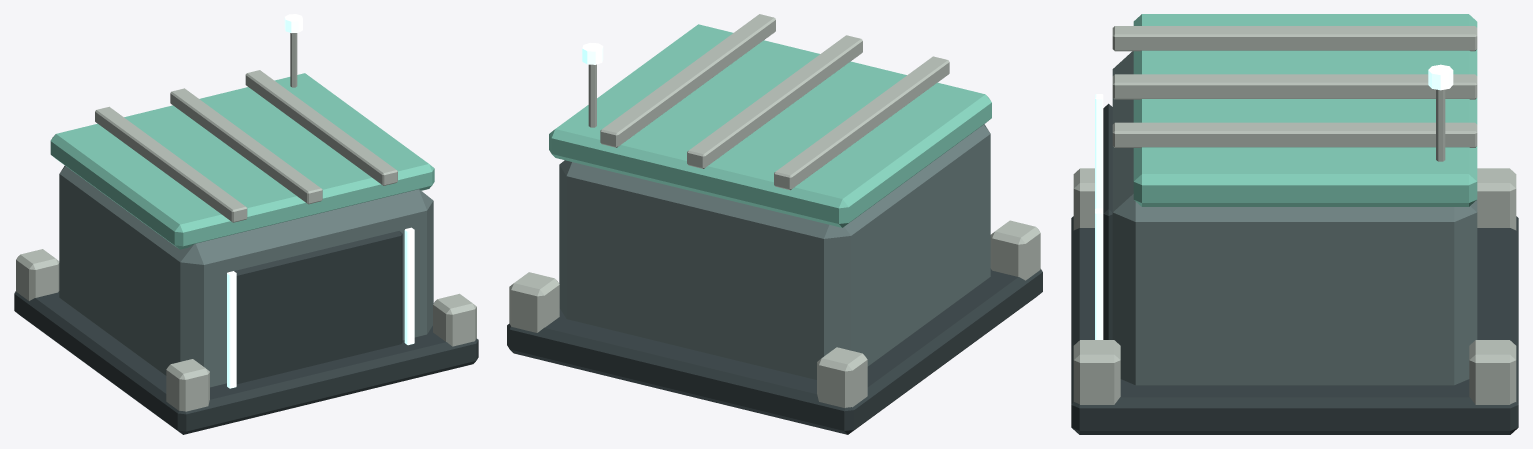
File: barracks.glb
3 views of the same model, side by side, from view 1: azimuth 30°, elevation 25°; view 2: azimuth 150°, elevation 25°; view 3: azimuth 270°, elevation 25° (orthographic). The views are drawn at different scales.
Visible parts, largest first — view 1: Hangar, Roof.001, Bay, Foundation.001, Roof_rib.001, Roof_rib.002, Roof_rib, Corner_armor.004, Corner_armor.006, Corner_armor.005, Bay_light.001, Bay_light; view 2: Hangar, Roof.001, Foundation.001, Roof_rib, Roof_rib.001, Roof_rib.002, Corner_armor.005, Corner_armor.007, Corner_armor.004, Beacon_pole.001; view 3: Hangar, Roof.001, Foundation.001, Roof_rib.002, Roof_rib, Roof_rib.001, Corner_armor.006, Corner_armor.007, Corner_armor.005, Bay, Corner_armor.004, Bay_light.001 (+3 smaller).
Part boxes in pixels (x1,y1,x2,y2): Hangar: [59, 165, 433, 387]; Roof.001: [50, 73, 434, 249]; Bay: [234, 231, 402, 384]; Foundation.001: [14, 291, 478, 434]; Roof_rib.001: [170, 88, 322, 204]; Roof_rib.002: [245, 70, 397, 185]; Roof_rib: [95, 106, 247, 222]; Corner_armor.004: [166, 359, 209, 411]; Corner_armor.006: [433, 293, 476, 346]; Corner_armor.005: [16, 249, 59, 300]; Bay_light.001: [404, 227, 414, 345]; Bay_light: [227, 271, 236, 388]; Hangar: [559, 124, 990, 379]; Roof.001: [549, 24, 991, 227]; Foundation.001: [507, 268, 1042, 434]; Roof_rib: [774, 56, 949, 190]; Roof_rib.001: [687, 35, 862, 168]; Roof_rib.002: [600, 14, 775, 147]; Corner_armor.005: [817, 347, 867, 407]; Corner_armor.007: [509, 272, 559, 332]; Corner_armor.004: [990, 220, 1040, 280]; Beacon_pole.001: [588, 64, 596, 127]; Hangar: [1112, 51, 1477, 385]; Roof.001: [1133, 14, 1477, 206]; Foundation.001: [1071, 216, 1518, 434]; Roof_rib.002: [1112, 122, 1477, 147]; Roof_rib: [1112, 26, 1477, 51]; Roof_rib.001: [1112, 74, 1477, 99]; Corner_armor.006: [1073, 340, 1120, 404]; Corner_armor.007: [1469, 340, 1516, 404]; Corner_armor.005: [1477, 168, 1516, 230]; Bay: [1103, 103, 1112, 339]; Corner_armor.004: [1073, 168, 1094, 230]; Bay_light.001: [1095, 208, 1103, 339].
Bounding box in the file's own units: 4.4 × 3.58 × 4.3.
